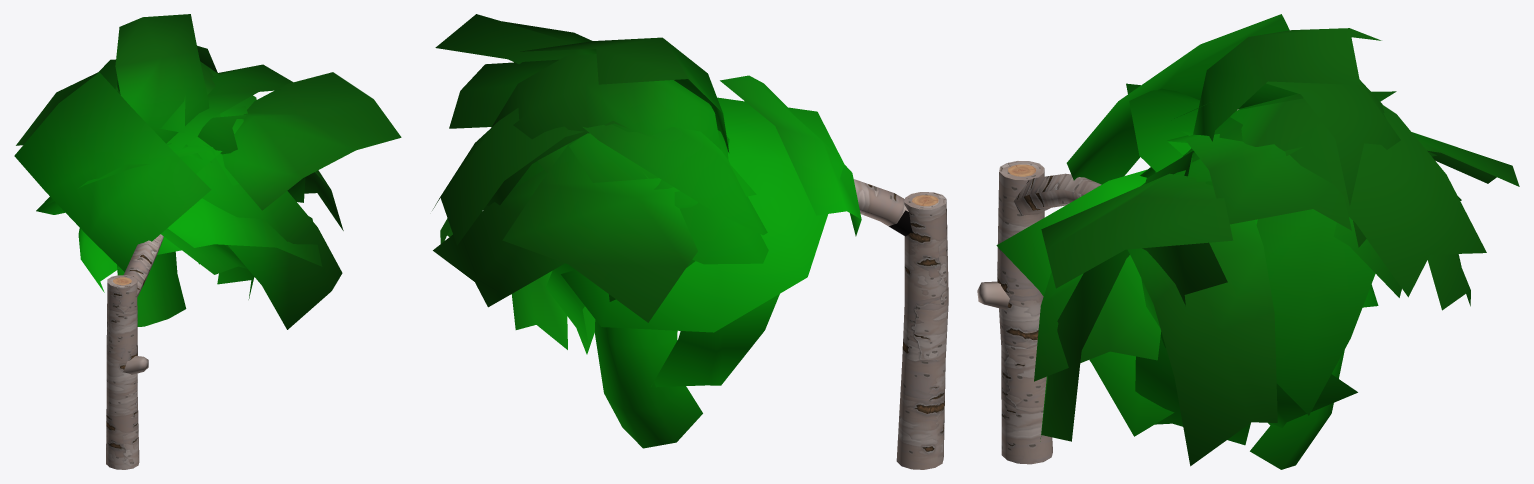
Rendered from obj_harvests_trees_birch03_p02.fbx.
3 renders of one model, left to right at view 1: azimuth 30°, elevation 25°; view 2: azimuth 150°, elevation 25°; view 3: azimuth 270°, elevation 25°, orthographic. The views are drawn at different scales.
Visible parts, largest first — view 1: chunk02; view 2: chunk02; view 3: chunk02.
Boxes of the visible parts, box(x1,y1,x2,y2) form: chunk02: box(14, 14, 401, 469); chunk02: box(432, 14, 948, 469); chunk02: box(977, 14, 1519, 469).
Size of the model in its own units: 13.95 by 14.76 by 13.98.
